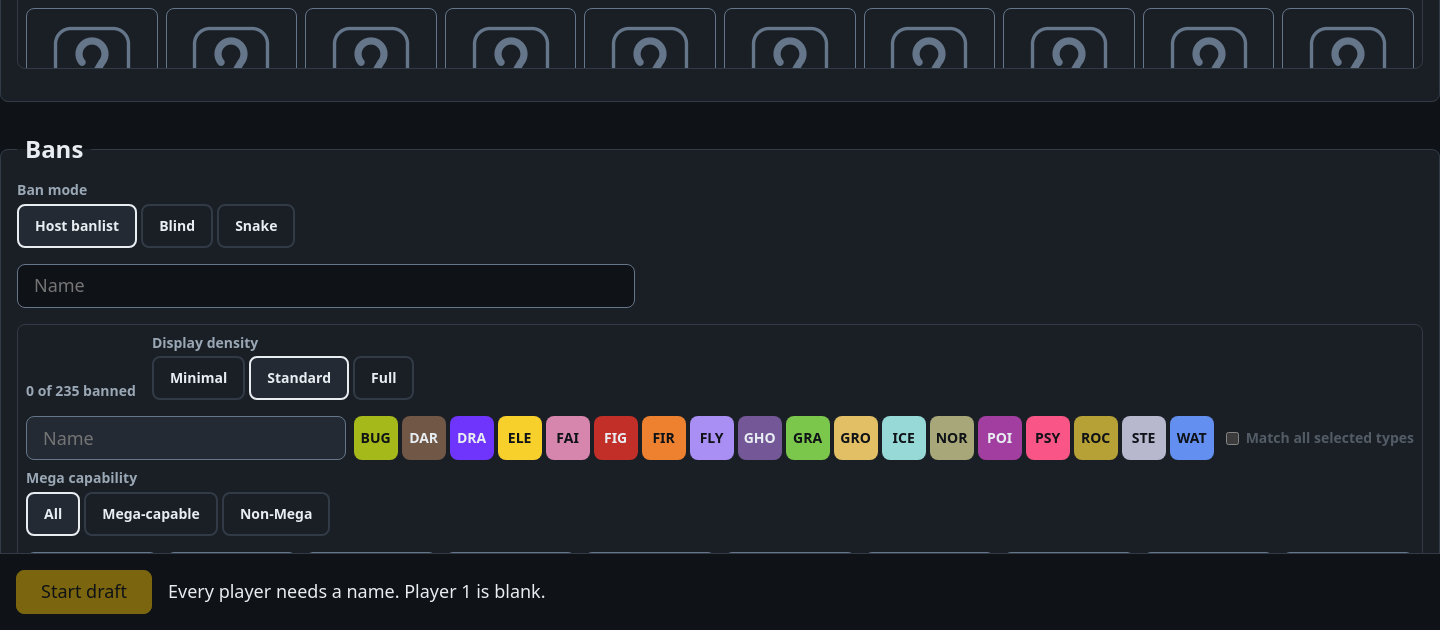
Test: the Duplicate bans control › offers both apply, selected, once a player-ban mode is chosen
The image size is (1440, 630).
(page scrolled)
Step 1. Click the radio button labelled "Snake" → [256, 226], box [217, 204, 296, 248]
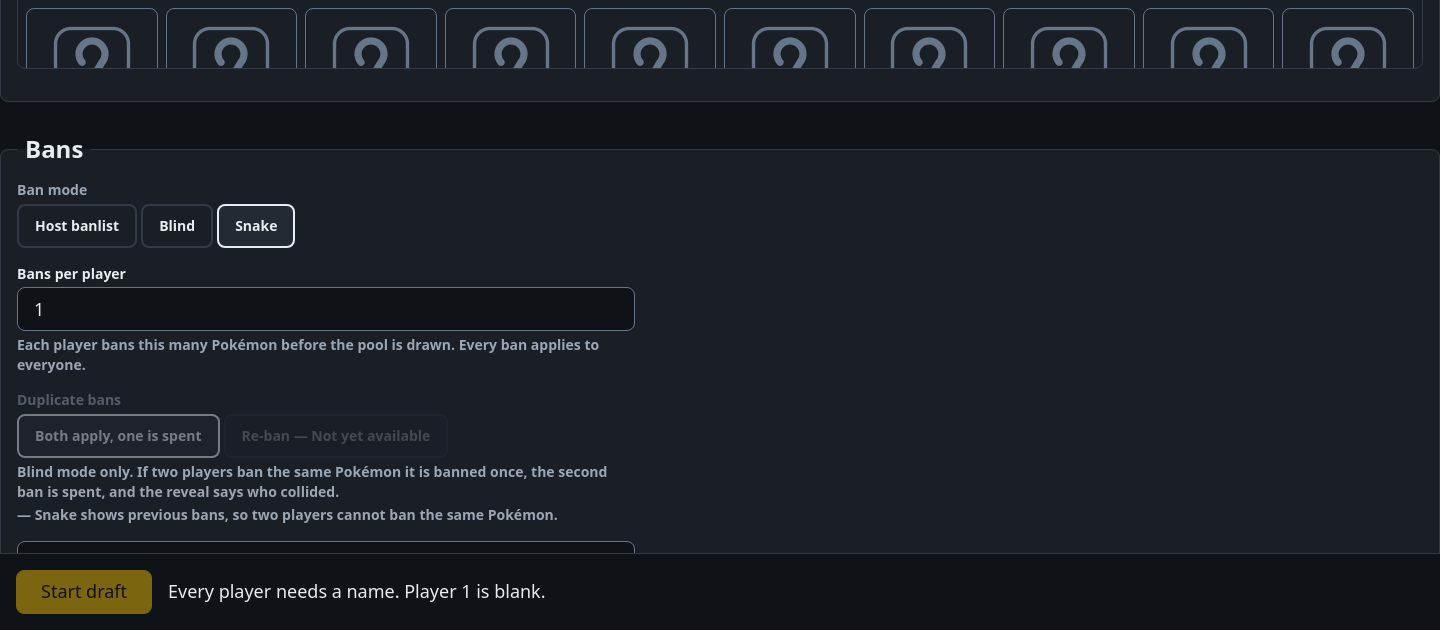
Expected: the radio button labelled "Both apply, one is spent" is shown, [17, 414, 220, 458]
